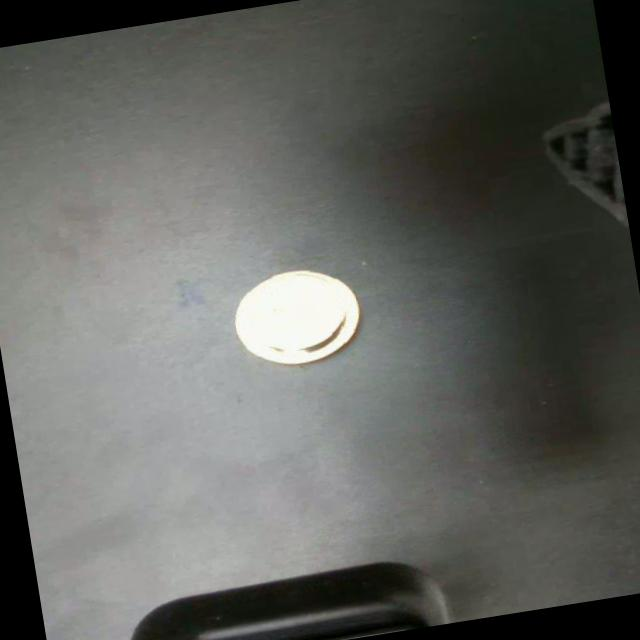sensor: (226, 260, 366, 374)
